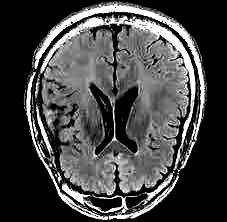Normal_Brain: (13, 1, 227, 219)
